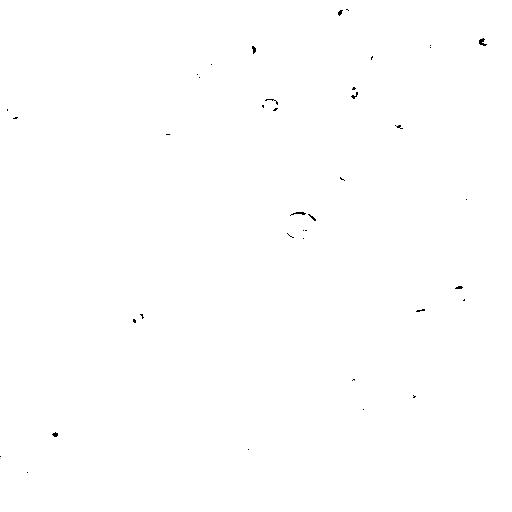micro-algae: (25, 66, 80, 124), (258, 179, 311, 233), (227, 181, 274, 224), (355, 84, 396, 128), (487, 1, 512, 70), (246, 50, 285, 86), (1, 326, 26, 378), (176, 404, 211, 439), (212, 36, 244, 74), (282, 210, 321, 240), (153, 423, 186, 458), (23, 459, 59, 489), (198, 14, 230, 46), (39, 420, 71, 446), (102, 39, 132, 61), (415, 84, 438, 112), (444, 282, 473, 304), (338, 372, 363, 397), (271, 149, 293, 177), (379, 18, 409, 38), (472, 30, 498, 53), (176, 265, 200, 289), (125, 161, 149, 184), (155, 250, 179, 273), (143, 22, 172, 41), (405, 302, 431, 323), (277, 28, 301, 50), (453, 182, 475, 205), (226, 223, 249, 245), (389, 108, 410, 132), (159, 133, 183, 153), (394, 381, 419, 400), (194, 58, 215, 80), (175, 153, 197, 174), (59, 341, 79, 364), (184, 18, 211, 35), (287, 105, 311, 124), (333, 5, 355, 25), (197, 184, 217, 206), (23, 332, 43, 354), (356, 135, 376, 156), (137, 67, 159, 86), (259, 93, 281, 112), (492, 92, 510, 115), (343, 81, 362, 102), (9, 312, 30, 331), (8, 67, 27, 87), (239, 340, 259, 359), (266, 332, 284, 353), (128, 310, 149, 328), (6, 250, 29, 266), (176, 329, 195, 348), (114, 244, 133, 262), (426, 39, 446, 56), (238, 68, 259, 84), (368, 50, 386, 67), (320, 135, 337, 152), (215, 391, 232, 408), (236, 0, 254, 16), (327, 43, 342, 62), (305, 38, 322, 54), (501, 217, 512, 241), (360, 402, 376, 418), (23, 49, 41, 63), (238, 445, 254, 460), (240, 44, 257, 58), (84, 0, 107, 10), (5, 105, 20, 120), (336, 167, 352, 181), (257, 148, 270, 164), (392, 503, 413, 512)
